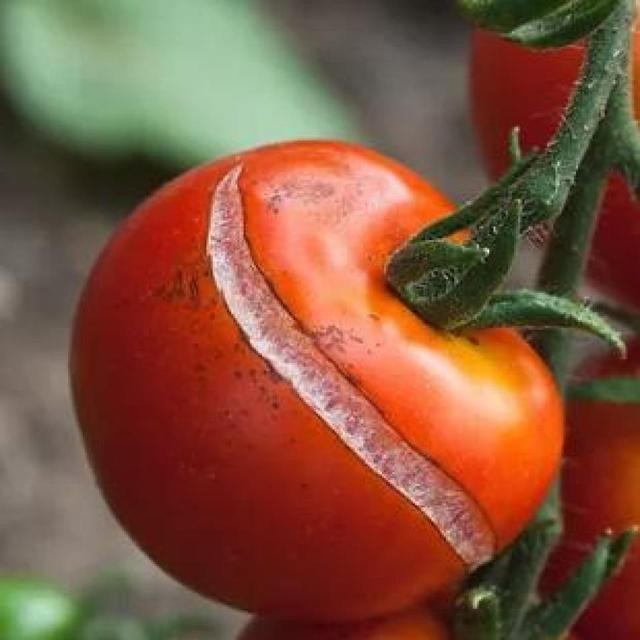Cracking Fruit: (122, 109, 345, 398)
